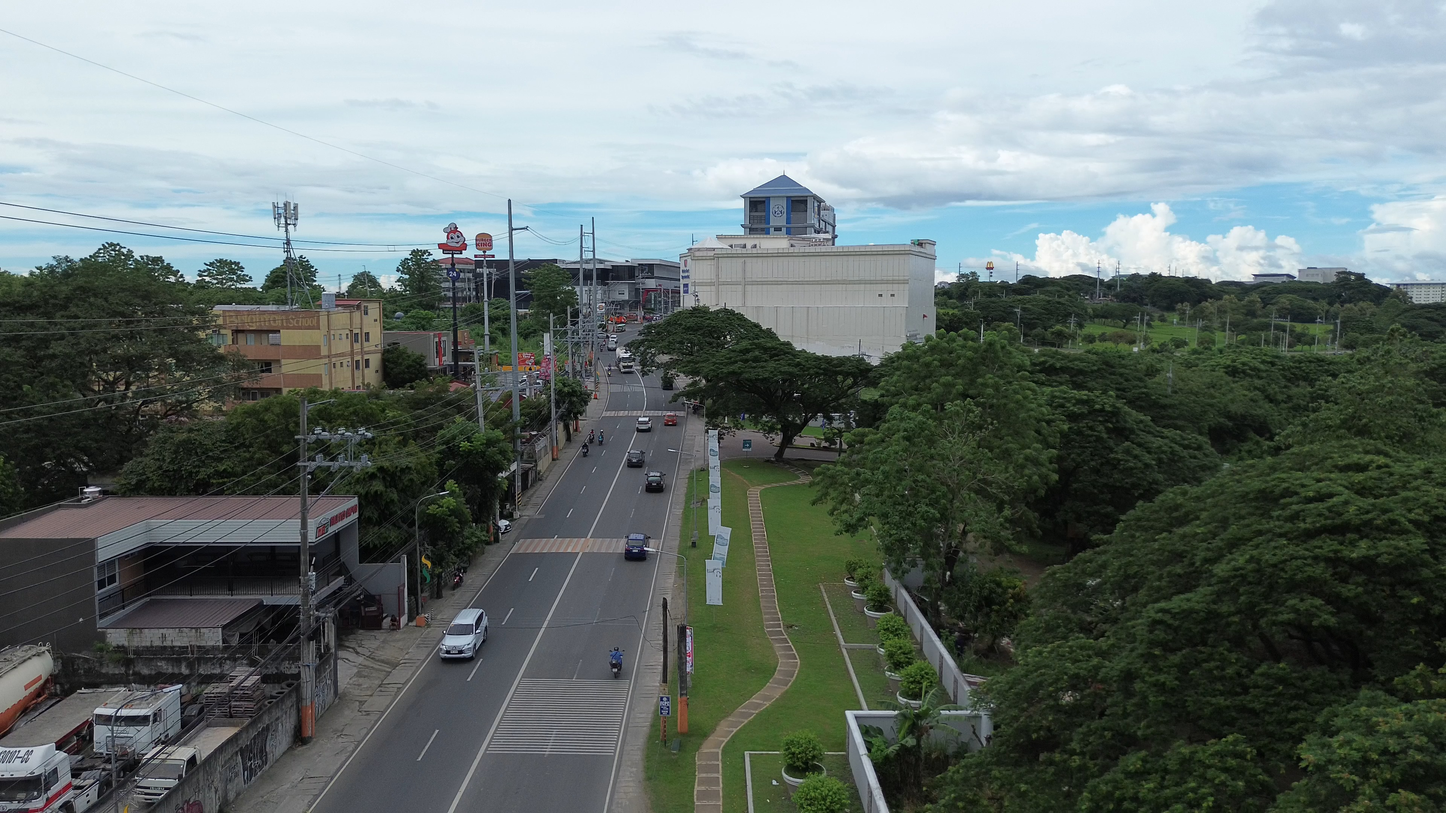car: (624, 533, 648, 560), (626, 449, 645, 467), (496, 518, 512, 534), (636, 416, 652, 432), (663, 412, 677, 426)
motorcycle: (609, 648, 623, 678), (451, 569, 463, 589), (581, 443, 589, 457)
vehicle: (94, 685, 182, 760), (0, 744, 82, 813), (0, 644, 54, 736), (134, 746, 200, 804), (439, 608, 488, 658), (644, 471, 664, 492), (618, 356, 636, 373), (607, 335, 618, 350), (581, 442, 589, 457)
